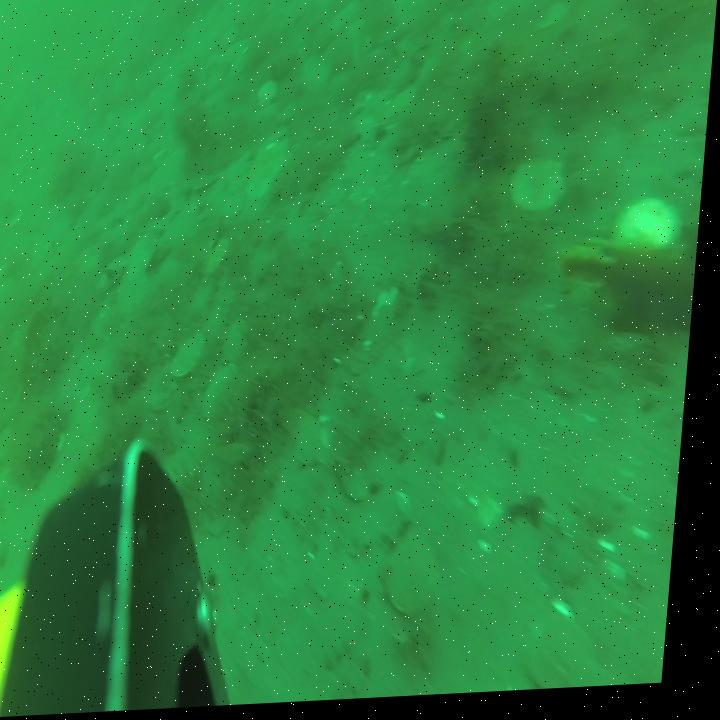scallop: (541, 617, 607, 696), (398, 537, 453, 622), (623, 200, 684, 265), (514, 161, 572, 222), (208, 365, 252, 432), (301, 420, 336, 472), (180, 334, 212, 382), (207, 237, 233, 285), (257, 83, 282, 114)
starfish: (249, 139, 289, 208)
